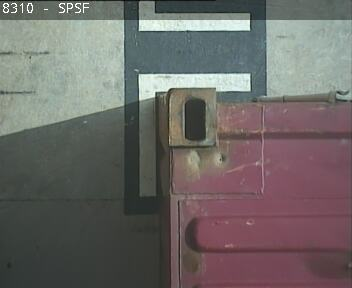groundmarker_1: (134, 1, 253, 198)
